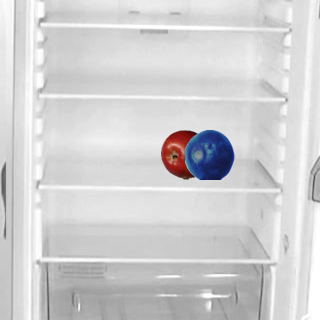Apple Braeburn: (160, 129, 210, 179)
Huckleberry: (184, 129, 234, 179)
